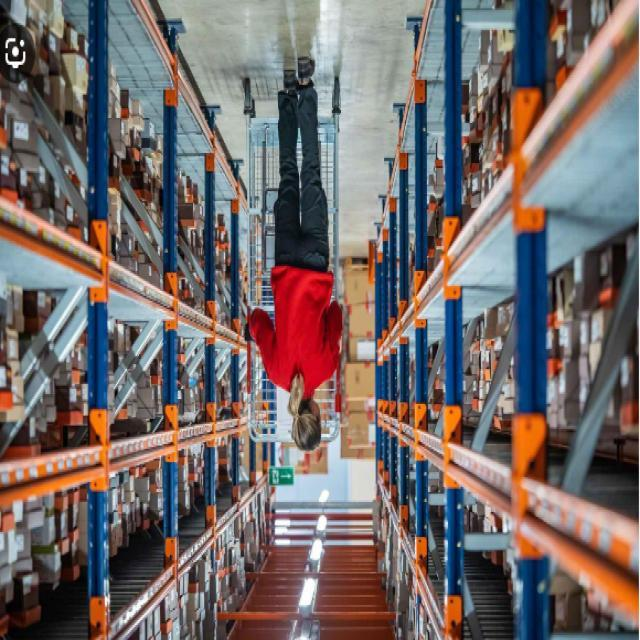boots: (282, 53, 319, 99)
